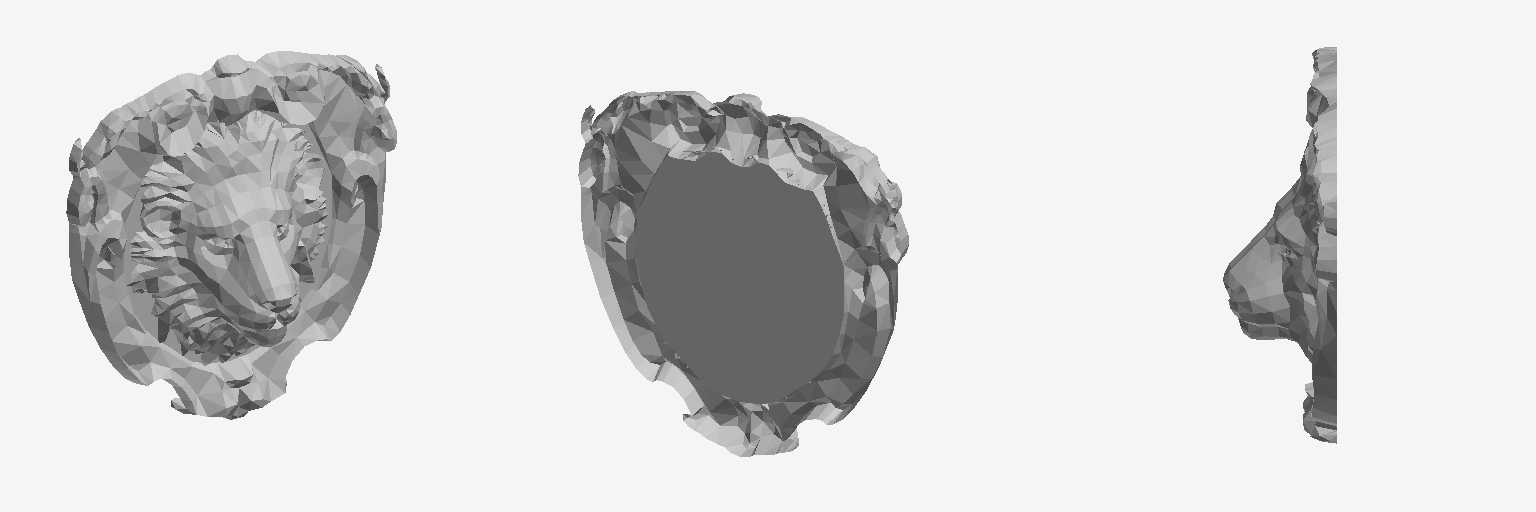
File: sponzaLion.obj
3 renders of one model, left to right at view 1: azimuth 30°, elevation 25°; view 2: azimuth 150°, elevation 25°; view 3: azimuth 270°, elevation 25°, orthographic.
Parts seen in each view (by area): view 1: sponza_377_sponza_377.001; view 2: sponza_377_sponza_377.001; view 3: sponza_377_sponza_377.001.
Boxes of the visible parts, x1,y1,x2,y2 form: sponza_377_sponza_377.001: [66, 51, 396, 419]; sponza_377_sponza_377.001: [578, 91, 908, 456]; sponza_377_sponza_377.001: [1223, 47, 1336, 443].
Size of the model in its own units: 6.23 by 6.64 by 1.9.